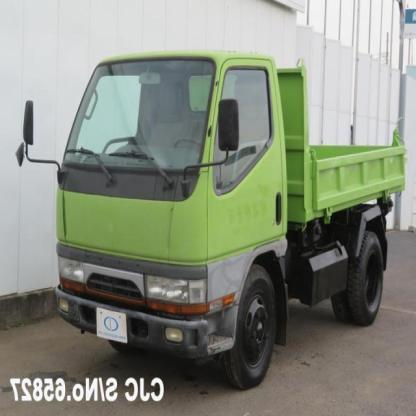truck: (27, 54, 408, 389)
